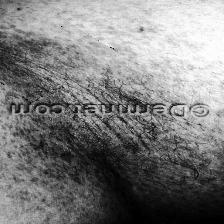Unclassified: (43, 152, 128, 176), (160, 180, 202, 210)
